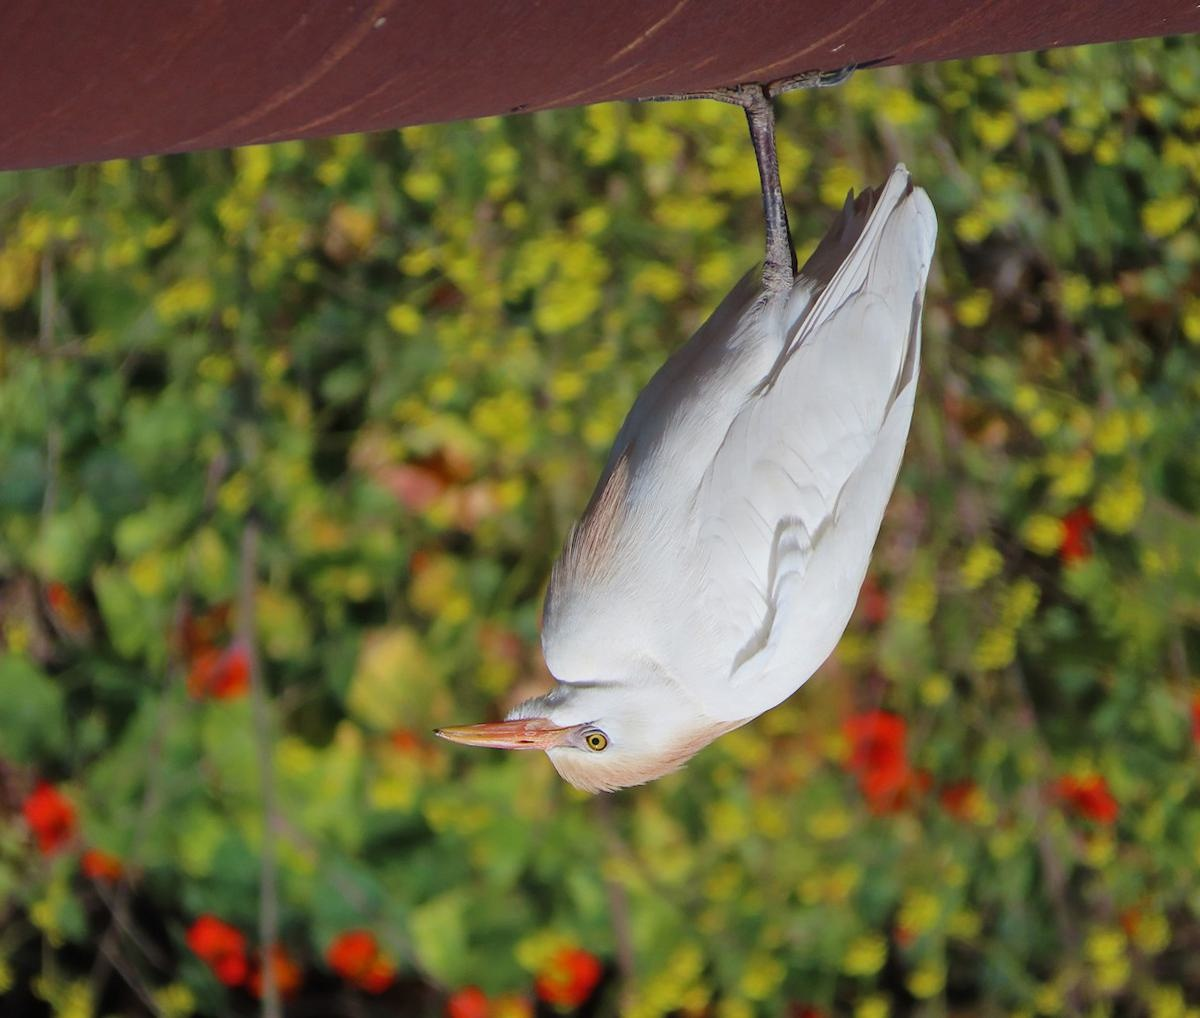egret: (438, 66, 960, 798)
